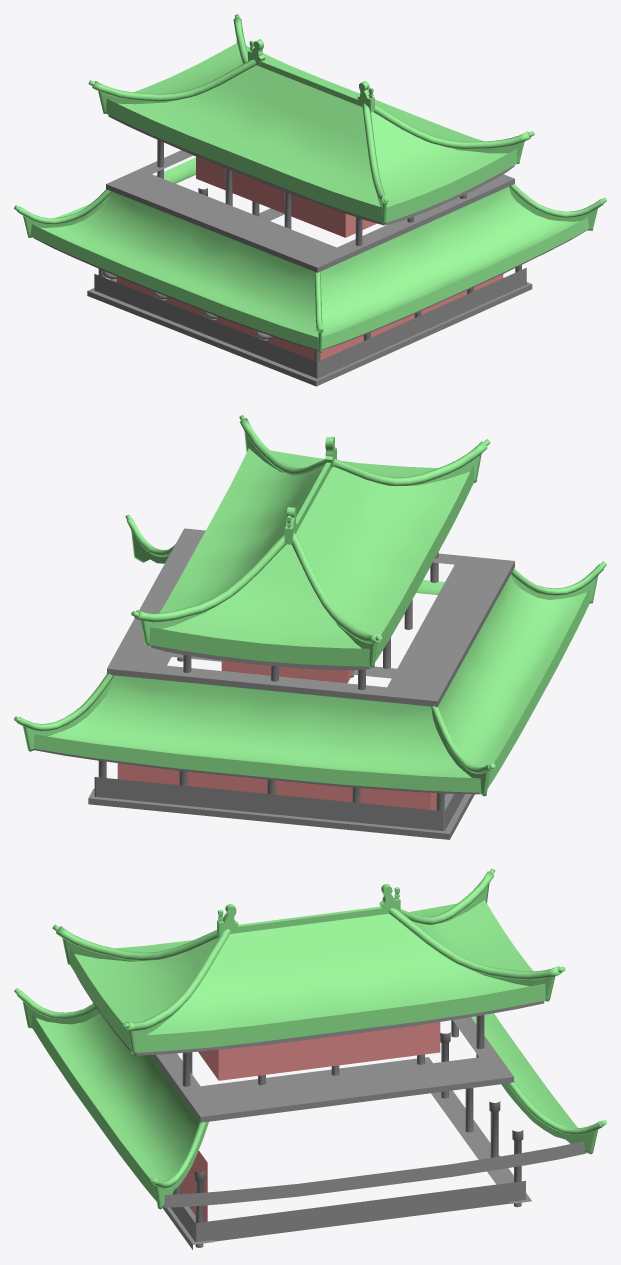
The model's file is CHN_OOB_Building02_CMB.gltf.
3 views of the same model, one above another, from view 1: azimuth 30°, elevation 25°; view 2: azimuth 150°, elevation 25°; view 3: azimuth 270°, elevation 25° (orthographic). The views are drawn at different scales.
Visible parts, largest first — view 1: CHN_OOB_Building02_CMB; view 2: CHN_OOB_Building02_CMB; view 3: CHN_OOB_Building02_CMB.
Boxes of the visible parts, <box> form: CHN_OOB_Building02_CMB: <box>14,14,606,386</box>; CHN_OOB_Building02_CMB: <box>14,415,606,839</box>; CHN_OOB_Building02_CMB: <box>14,868,606,1249</box>.
Bounding box in the file's own units: 57.6 × 28.3 × 57.72.
